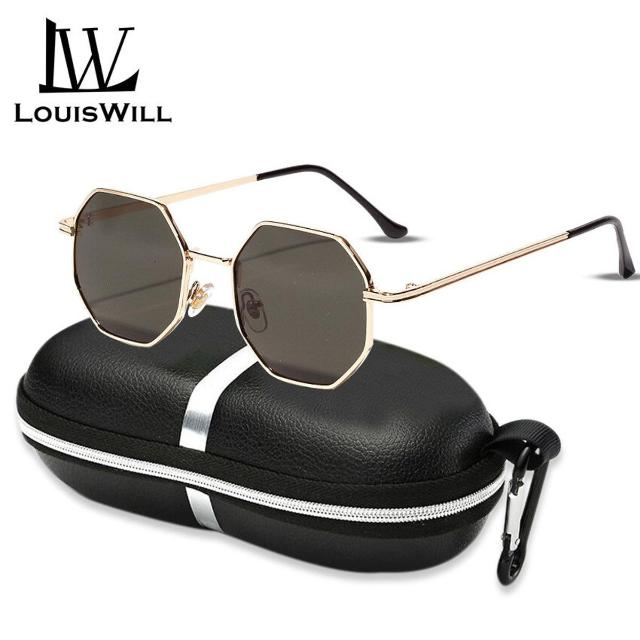Sunglasses: (46, 153, 638, 395)
